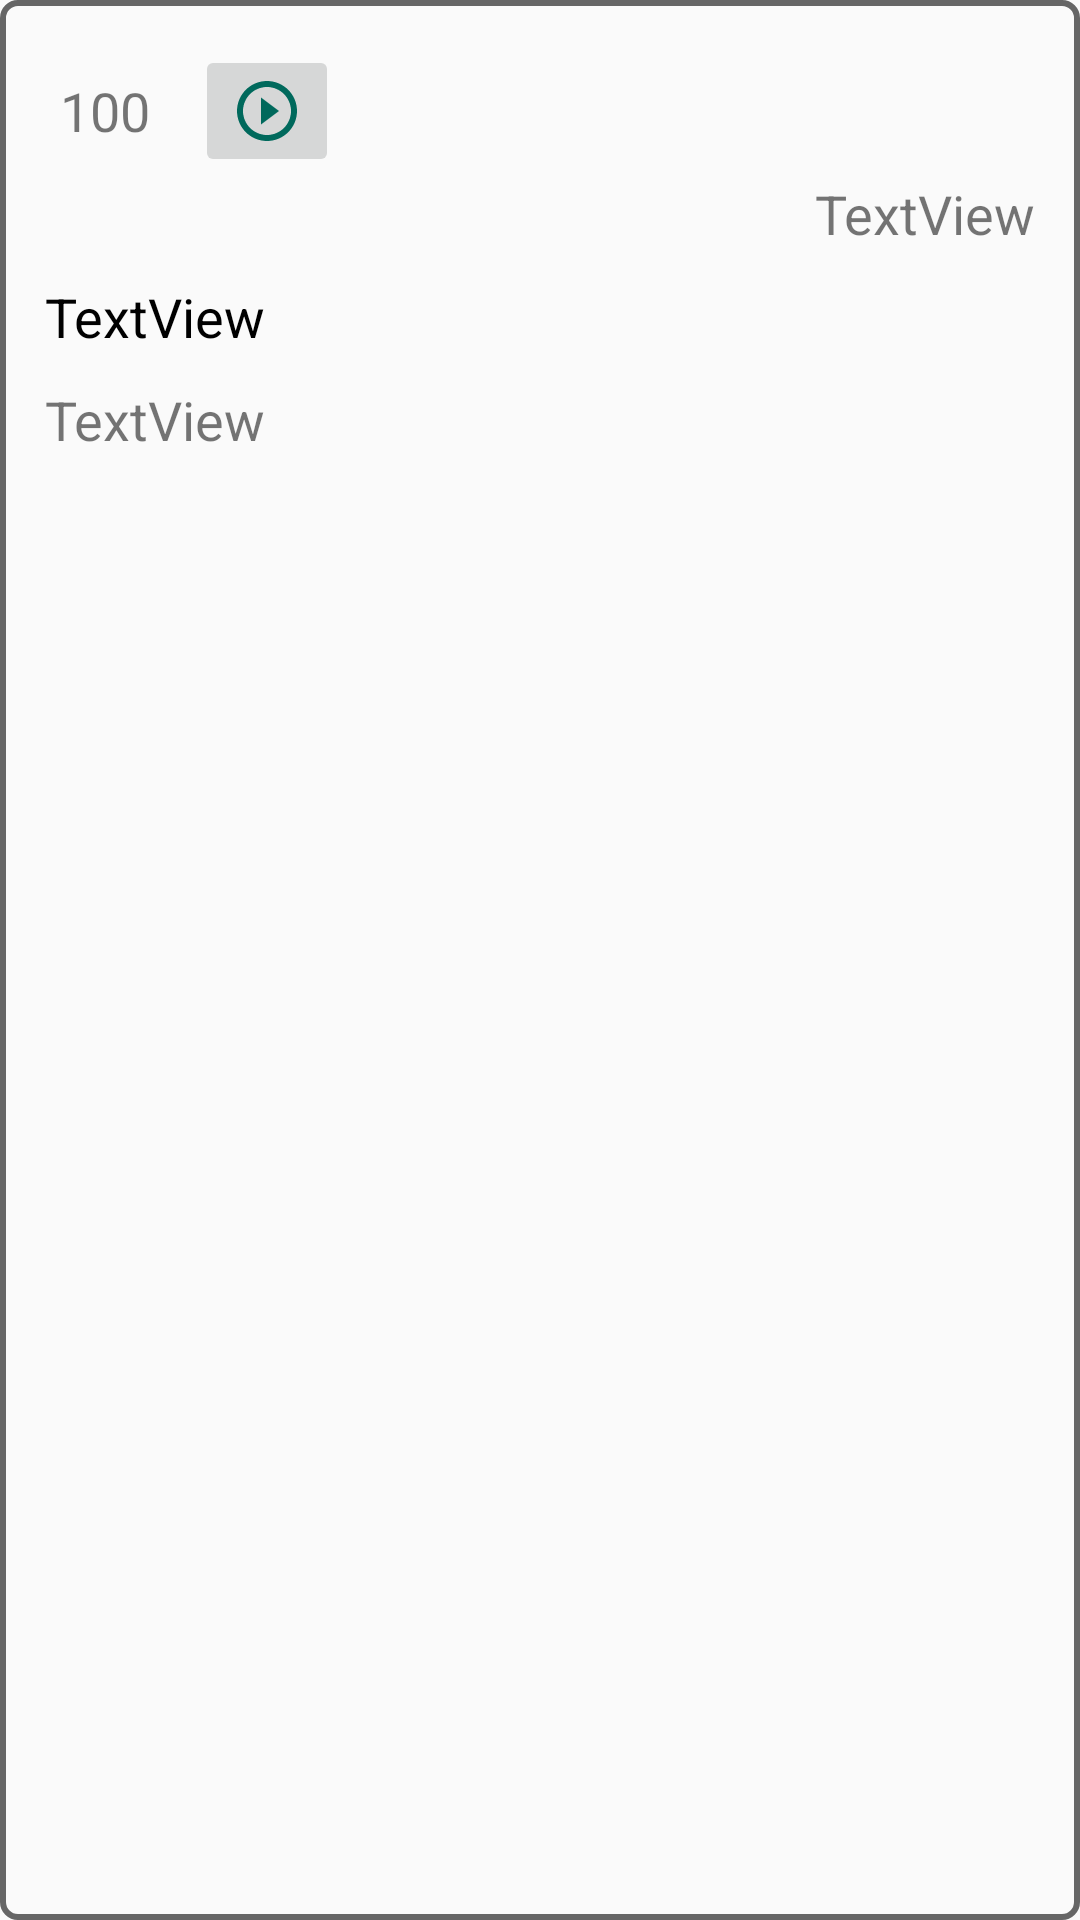

Screen size 1080w x 1920h. Icon name, then its center in pixels as (x=x, y=y):
play: (x=267, y=111)
